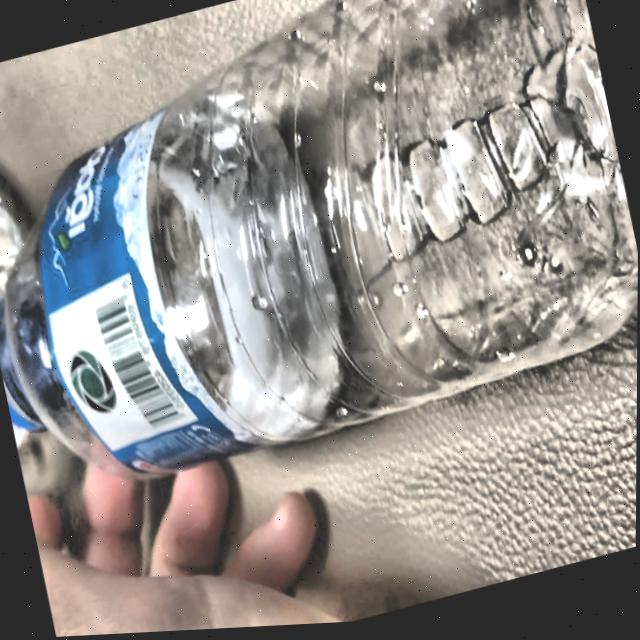plastic: (0, 0, 638, 490)
